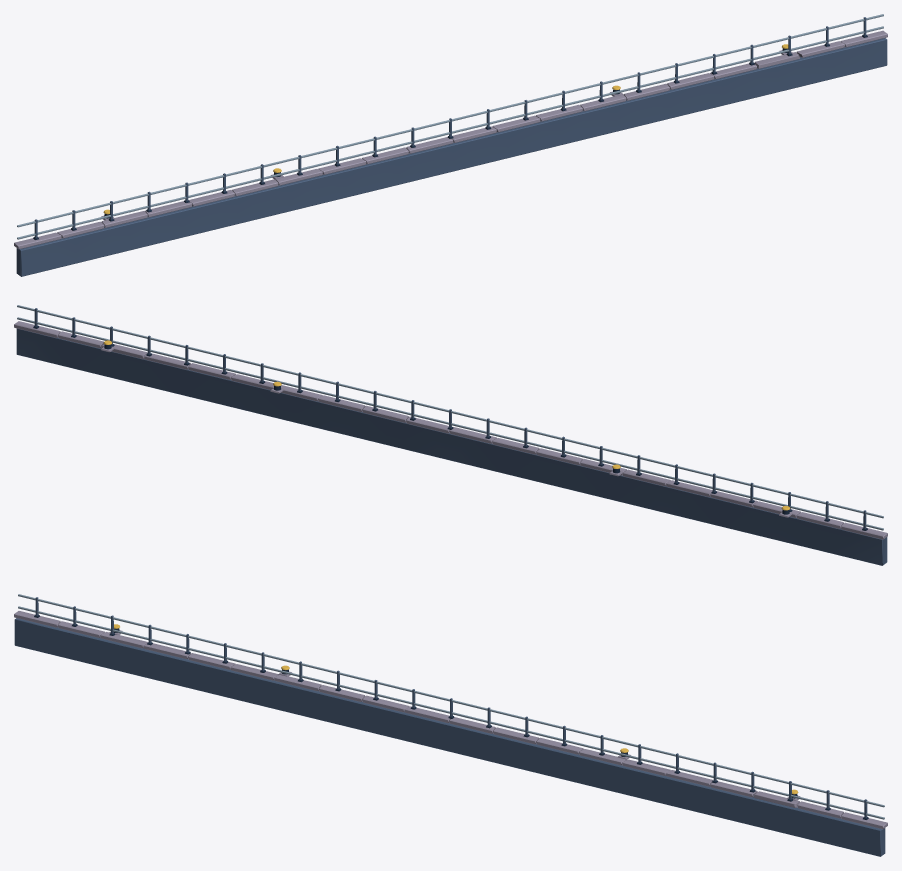
Rendered from harbour_quay.glb.
The picture shows the model from 3 angles, top to bottom: view 1: azimuth 30°, elevation 25°; view 2: azimuth 150°, elevation 25°; view 3: azimuth 330°, elevation 25°; orthographic projection.
Visible parts, largest first — view 1: harbour_quay; view 2: harbour_quay; view 3: harbour_quay.
Part boxes in pixels (<box>): harbour_quay: <box>14,14,887,276</box>; harbour_quay: <box>14,305,887,565</box>; harbour_quay: <box>14,594,887,856</box>.
Bounding box in the file's own units: 46.17 × 2.55 × 0.9207.
